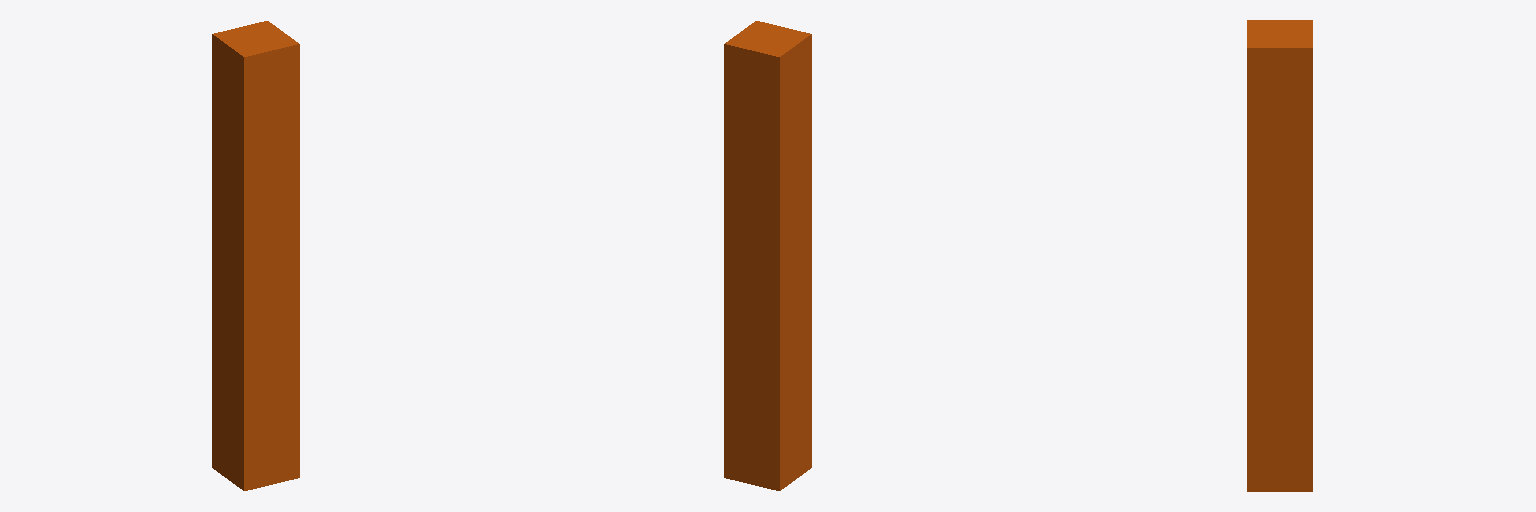
The robot description file, URDF, robot "relative_path_robot":
<?xml version="1.0"?>
<robot name="relative_path_robot">
  <!-- Test relative path support -->
  <link name="base_link">
    <visual>
      <origin xyz="0 0 0" rpy="0 0 0"/>
      <geometry>
        <!-- Relative path: meshes/base.stl relative to this file -->
        <mesh filename="test_robot/meshes/base.stl" scale="1 1 1"/>
      </geometry>
      <material name="silver">
        <color rgba="0.8 0.8 0.8 1"/>
      </material>
    </visual>
  </link>

  <link name="arm_link">
    <visual>
      <origin xyz="0 0 0" rpy="0 0 0"/>
      <geometry>
        <!-- Another relative path -->
        <mesh filename="test_robot/meshes/arm.dae"/>
      </geometry>
    </visual>
  </link>

  <joint name="base_to_arm" type="revolute">
    <parent link="base_link"/>
    <child link="arm_link"/>
    <origin xyz="0 0 0.1" rpy="0 0 0"/>
    <axis xyz="0 0 1"/>
    <limit lower="-1.57" upper="1.57" effort="50" velocity="2"/>
  </joint>
</robot>

--- What the picture shows (computed from the rendered views, not written in the file) ---
The picture shows the robot from 3 angles, left to right: view 1: azimuth 30°, elevation 25°; view 2: azimuth 150°, elevation 25°; view 3: azimuth 270°, elevation 25°; orthographic projection.
Model relative_path_robot with 2 links and 1 joints (1 revolute), rooted at base_link, posed every joint at zero.
Links seen in each view (by area): view 1: arm_link; view 2: arm_link; view 3: arm_link.
Link boxes in pixels (box(x1,y1,x2,y2)): arm_link: box(212, 21, 299, 490); arm_link: box(724, 21, 811, 490); arm_link: box(1247, 20, 1312, 491).
Size in the robot's own frame: 0.04 by 0.04 by 0.3 metres.
Meshes: 2 distinct files referenced, 1 mesh visuals loaded (1 Collada DAE); not drawn: 1 (file found but could not be loaded).